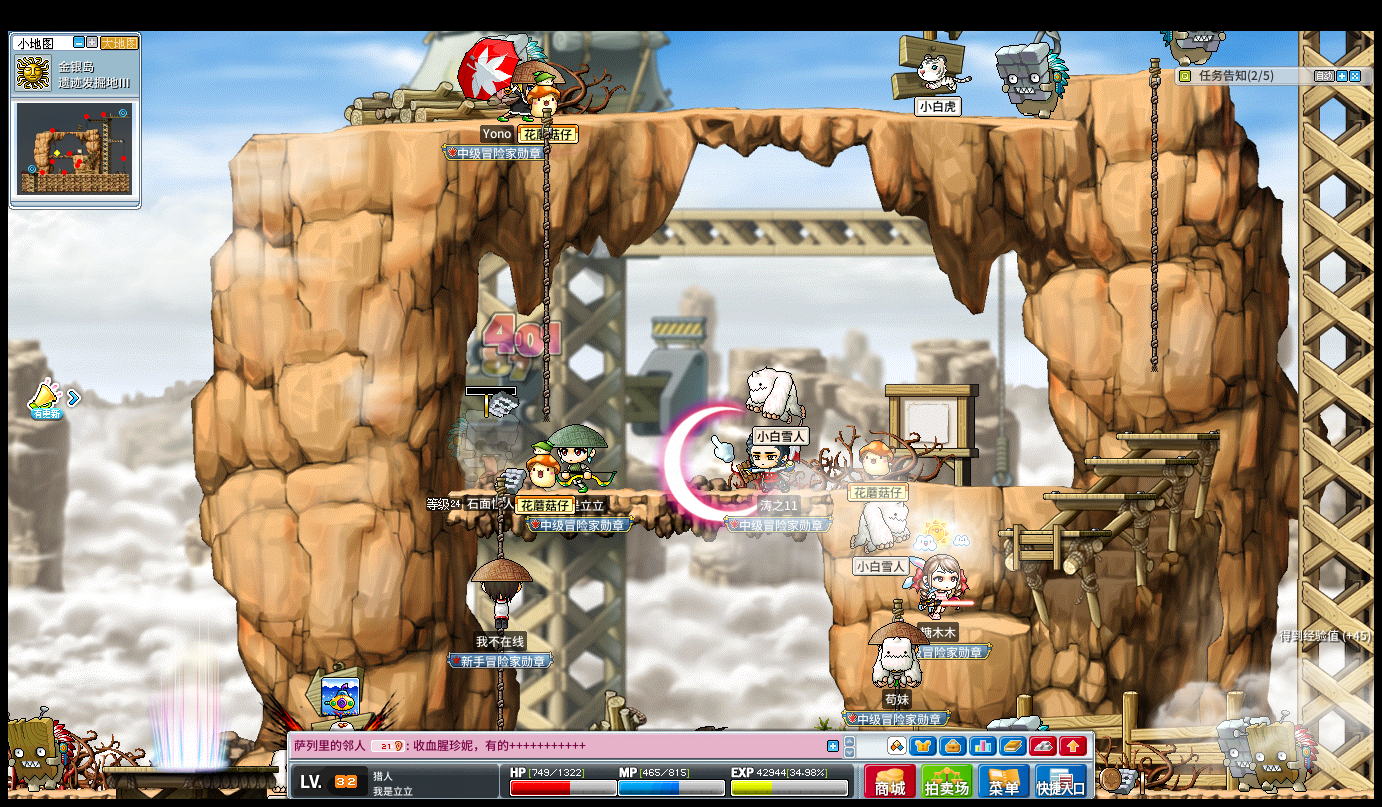floor: (240, 104, 1089, 139), (437, 488, 828, 499), (911, 613, 1029, 632), (854, 482, 1075, 492), (1114, 429, 1221, 441), (1070, 68, 1166, 81), (1077, 455, 1194, 464), (1040, 492, 1154, 500), (995, 528, 1108, 536)
monster: (1219, 712, 1314, 792), (993, 40, 1069, 120), (3, 712, 74, 791), (448, 403, 507, 465)
rope: (1146, 57, 1160, 377), (540, 109, 551, 424), (491, 484, 504, 559), (494, 667, 504, 723)
